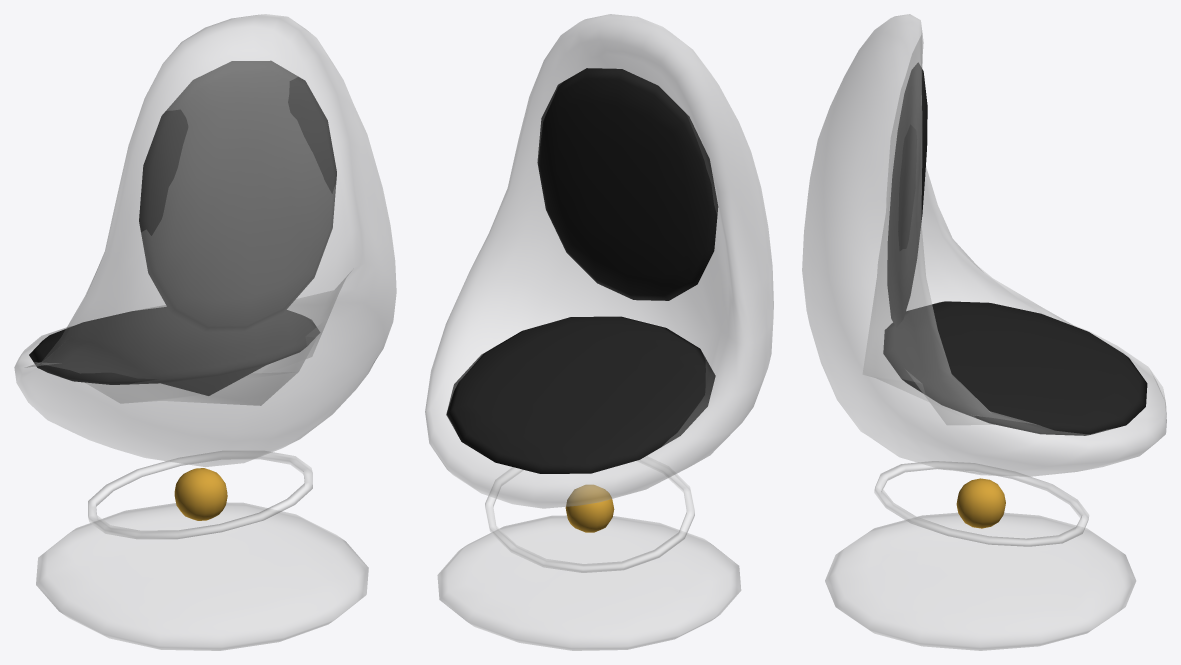
Rendered from White room Chair Sam.fbx.
3 views of the same model, side by side, from view 1: azimuth 30°, elevation 25°; view 2: azimuth 150°, elevation 25°; view 3: azimuth 270°, elevation 25° (orthographic). The views are drawn at different scales.
Visible parts, largest first — view 1: Chair Sam; view 2: Chair Sam; view 3: Chair Sam.
Part boxes in pixels (x1=…): Chair Sam: x1=14, y1=14, x2=396, y2=650; Chair Sam: x1=425, y1=14, x2=773, y2=650; Chair Sam: x1=802, y1=14, x2=1166, y2=650.
Size of the model in its own units: 1.11 by 1.98 by 1.14.
